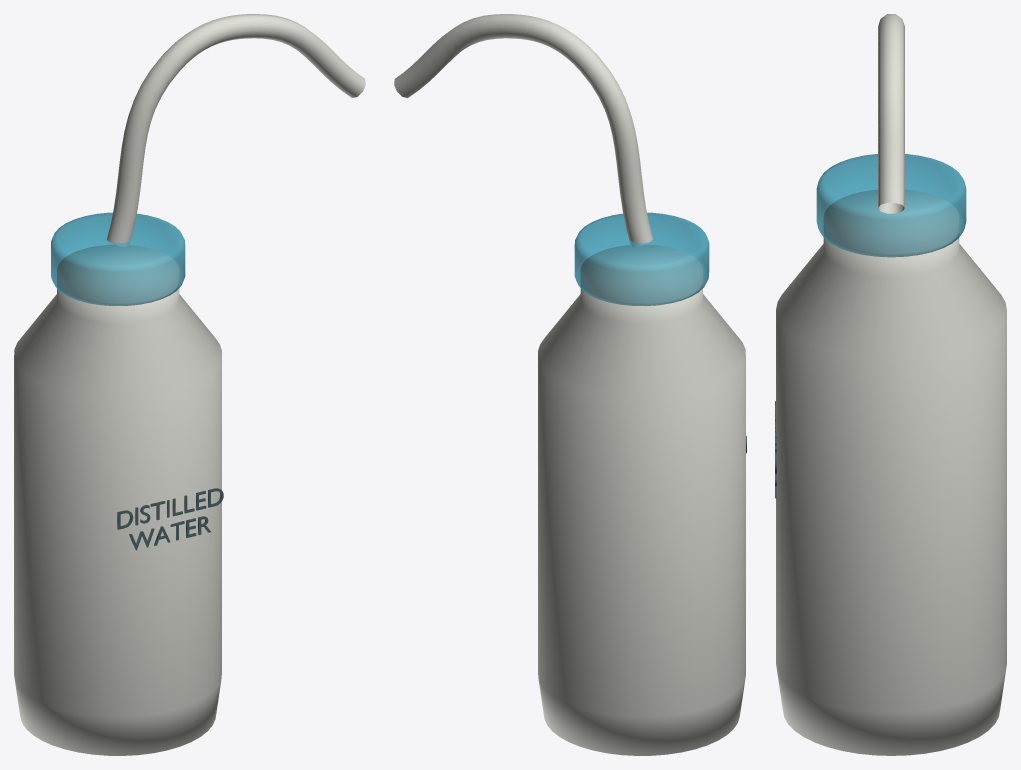
The model's file is wash-bottle.glb.
3 renders of one model, left to right at view 1: azimuth 30°, elevation 25°; view 2: azimuth 150°, elevation 25°; view 3: azimuth 270°, elevation 25°, orthographic. The views are drawn at different scales.
Visible parts, largest first — view 1: Wash bottle body.001, Blue cap.001, Wash bottle spout.001, Wash label.001; view 2: Wash bottle body.001, Blue cap.001, Wash bottle spout.001; view 3: Wash bottle body.001, Blue cap.001, Wash bottle spout.001.
Part boxes in pixels (box(x1,y1,x2,y2)): Wash bottle body.001: box(14, 245, 221, 755); Blue cap.001: box(51, 212, 185, 305); Wash bottle spout.001: box(107, 14, 365, 246); Wash label.001: box(117, 488, 223, 550); Wash bottle body.001: box(538, 245, 745, 755); Blue cap.001: box(574, 212, 709, 305); Wash bottle spout.001: box(394, 14, 652, 246); Wash bottle body.001: box(776, 190, 1006, 755); Blue cap.001: box(816, 154, 966, 257); Wash bottle spout.001: box(878, 14, 904, 213).
Size of the model in its own units: 0.1265 by 0.2413 by 0.0683.
